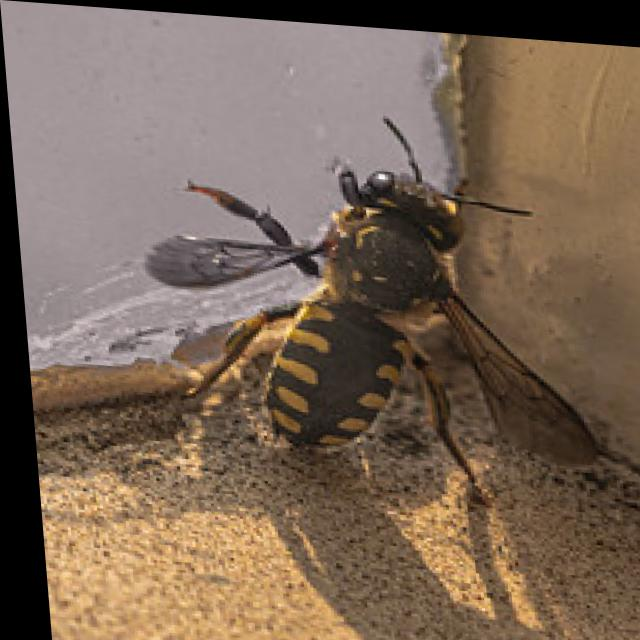Guepe: (122, 70, 639, 538)
